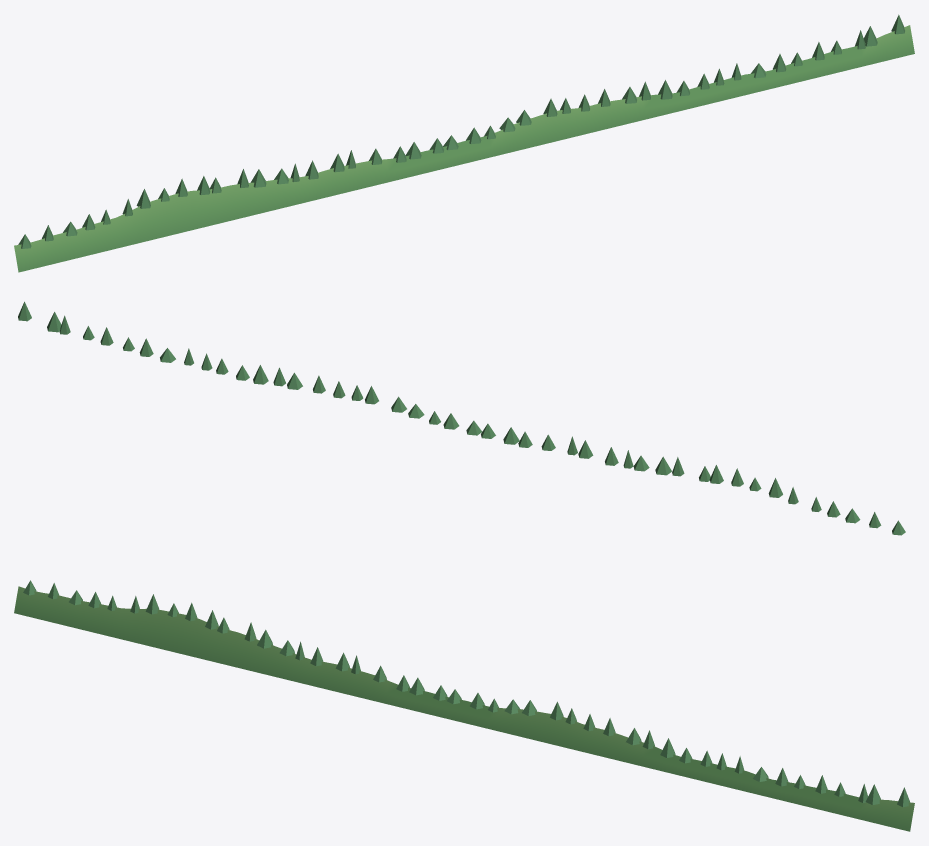
The picture shows the model from 3 angles, top to bottom: view 1: azimuth 30°, elevation 25°; view 2: azimuth 150°, elevation 25°; view 3: azimuth 330°, elevation 25°; orthographic projection.
Parts seen in each view (by area): view 1: sn_hz_a; view 2: sn_hz_a; view 3: sn_hz_a.
Part boxes in pixels (x1,y1,x2,y2): sn_hz_a: [14, 14, 914, 272]; sn_hz_a: [18, 301, 905, 535]; sn_hz_a: [14, 580, 914, 831].
Bounding box in the file's own units: 420 × 21.2 × 8.97.
